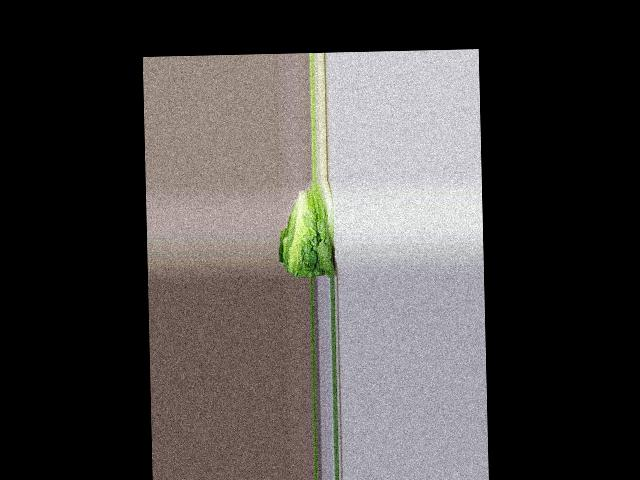lettuce: (284, 184, 337, 279)
